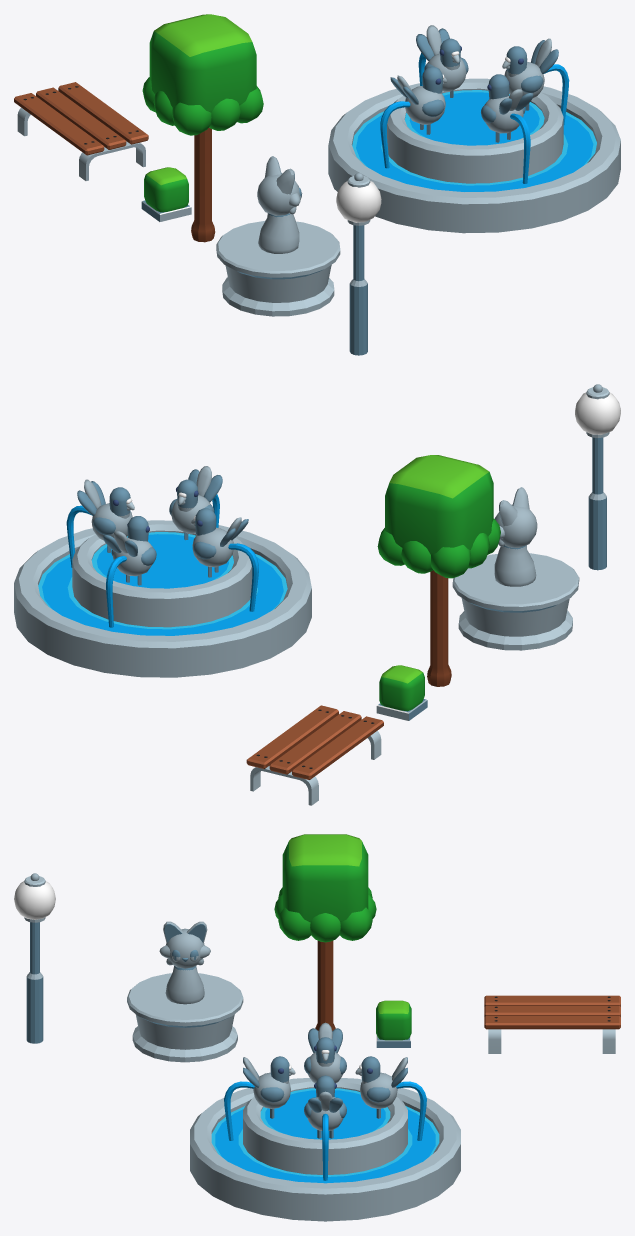
The model's file is mesh_trees.fbx.
The picture shows the model from 3 angles, top to bottom: view 1: azimuth 30°, elevation 25°; view 2: azimuth 150°, elevation 25°; view 3: azimuth 270°, elevation 25°; orthographic projection. The views are drawn at different scales.
Visible parts, largest first — view 1: pCylinder12, mesh_tree, mesh_statue, mesh_bench, mesh_lamp, mesh_bush; view 2: pCylinder12, mesh_tree, mesh_statue, mesh_bench, mesh_lamp, mesh_bush; view 3: pCylinder12, mesh_tree, mesh_statue, mesh_bench, mesh_lamp, mesh_bush.
Boxes of the visible parts, x1,y1,x2,y2 form: pCylinder12: [328, 25, 620, 233]; mesh_tree: [142, 14, 263, 242]; mesh_statue: [216, 156, 340, 316]; mesh_bench: [14, 82, 148, 180]; mesh_lamp: [336, 173, 381, 355]; mesh_bush: [141, 167, 191, 221]; pCylinder12: [14, 466, 311, 677]; mesh_tree: [377, 455, 500, 686]; mesh_statue: [452, 487, 579, 650]; mesh_bench: [246, 705, 383, 805]; mesh_lamp: [575, 384, 620, 570]; mesh_bush: [376, 665, 427, 720]; pCylinder12: [190, 1022, 460, 1221]; mesh_tree: [274, 834, 376, 1030]; mesh_statue: [127, 921, 243, 1062]; mesh_bench: [484, 995, 620, 1053]; mesh_lamp: [14, 873, 55, 1043]; mesh_bush: [376, 1000, 411, 1047].
Bounding box in the file's own units: 14.27 × 6.36 × 17.78.
Materials: 1 (1 with a texture image).
